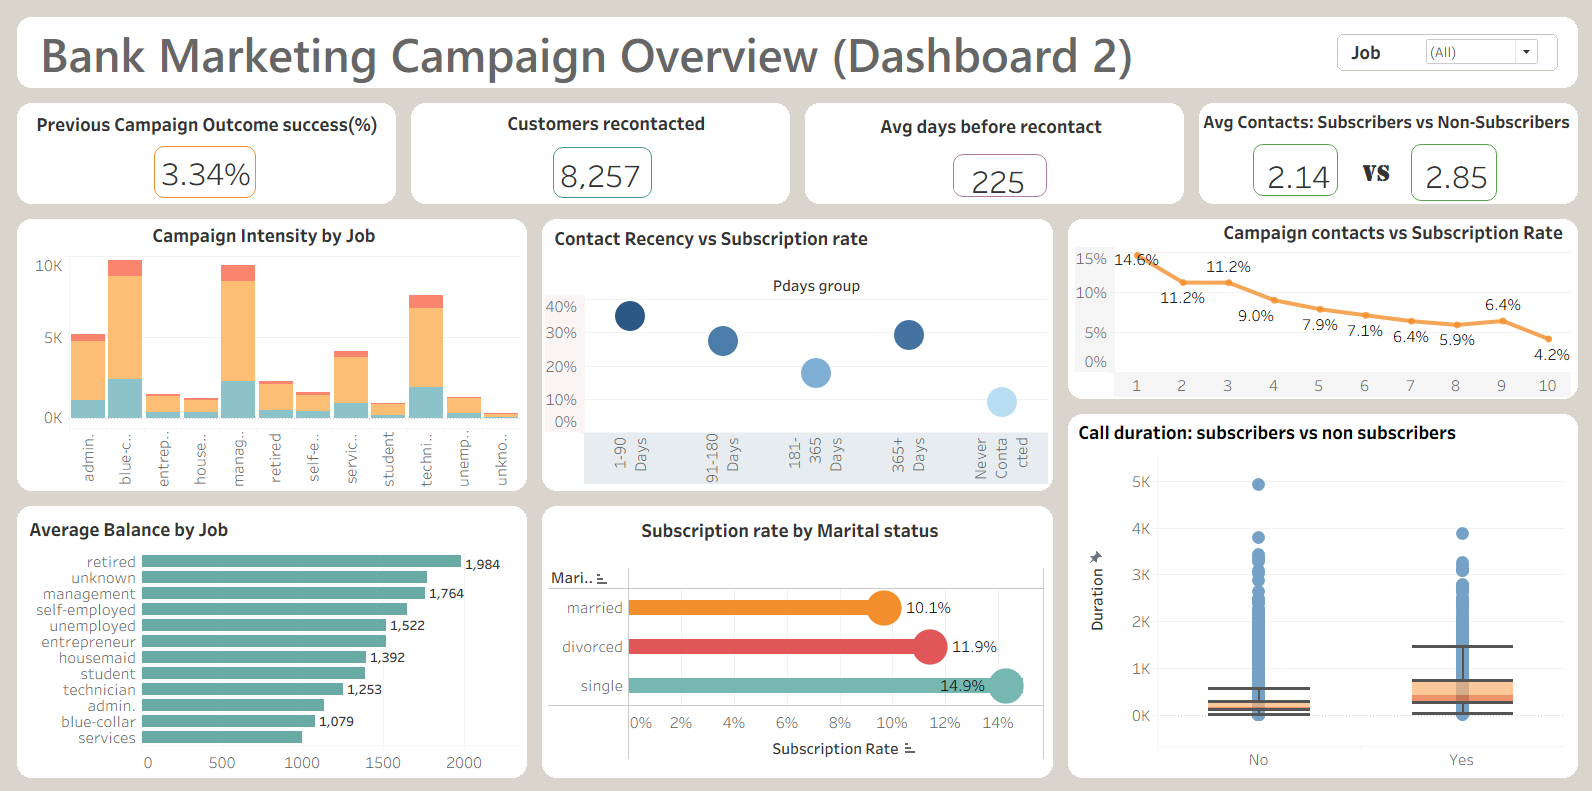

The dashboard page shown, as its layout file describes it:
{"tool":"tableau","page":{"name":"Dashboard 2","canvas":[1600,800],"ordinal":1},"visuals":[{"type":"image","param":"C:/Users/LENOVO/Downloads/dashboard2_bg_1600x800_v2.png","box":[0,0,1600,800]},{"type":"text","box":[26,24,1128,63]},{"type":"filter","title":"Campaign Intensity by Job","param":"[federated.10ulu2d0axs8fh14mv0v413qdz5e].[none:V2:nk]","box":[1354,42,190,25]},{"type":"text","box":[1186,99,407,50]},{"type":"text","box":[36,110,348,33]},{"type":"text","box":[507,111,205,30]},{"type":"text","box":[880,114,229,30]},{"type":"worksheet","title":"KPI-Avg Contacts: Subscribers","mark":"Automatic","box":[1256,147,85,52]},{"type":"worksheet","title":"KPI-Avg Contacts: Non-Subscribers ","mark":"Automatic","box":[1414,147,86,57]},{"type":"worksheet","title":"KPI-Previous Campaign Outcome success(%)","mark":"Automatic","box":[157,149,102,52]},{"type":"worksheet","title":"KPI-Customers recontacted","mark":"Automatic","box":[556,150,99,51]},{"type":"worksheet","title":"KPI-Avg days before recontact","mark":"Automatic","box":[956,157,94,43]},{"type":"text","box":[1362,162,50,30]},{"type":"text","box":[1223,215,362,39]},{"type":"text","box":[554,218,363,46]},{"type":"text","box":[152,223,230,30]},{"type":"worksheet","title":"Campaign contacts vs Subscription Rate","mark":"Line","rows":["Calculation_1324386255863811"],"cols":["Calculation_1392009566494721"],"box":[1078,235,496,165]},{"type":"worksheet","title":"Campaign Intensity by Job","mark":"Automatic","rows":["V1"],"cols":["V2"],"box":[28,242,495,249]},{"type":"worksheet","title":"Contact Recency vs Subscription rate","mark":"Circle","rows":["Calculation_1324386255863811"],"cols":["Calculation_0161655695294465"],"box":[548,263,503,225]},{"type":"text","box":[1078,415,406,39]},{"type":"worksheet","title":"Call duration: subscribers vs not","mark":"Circle","rows":["V12"],"cols":["Calculation_1392009561391104"],"box":[1082,444,485,330]},{"type":"text","box":[29,517,206,30]},{"type":"text","box":[641,518,313,30]},{"type":"worksheet","title":"Average Balance by Job","mark":"Automatic","rows":["V2"],"cols":["V6"],"box":[24,541,500,249]},{"type":"worksheet","title":"Subscription rate by Marital status","mark":"Bar","rows":["V3"],"cols":["Calculation_1324386255863811","Calculation_1324386255863811"],"box":[551,556,496,216]}]}

Visuals, with their boxes in screenshot pixels (x1, y1, x2, y2), scaled from the page's 1600x800 canvas onto the 1592x791 screenshot:
image: box(0, 0, 1591, 790)
text: box(26, 24, 1148, 86)
"Campaign Intensity by Job" filter: box(1347, 42, 1536, 66)
text: box(1180, 98, 1585, 147)
text: box(36, 109, 382, 141)
text: box(504, 110, 708, 139)
text: box(876, 113, 1103, 142)
"KPI-Avg Contacts: Subscribers" worksheet: box(1250, 145, 1334, 197)
"KPI-Avg Contacts: Non-Subscribers " worksheet: box(1407, 145, 1492, 202)
"KPI-Previous Campaign Outcome success(%)" worksheet: box(156, 147, 258, 199)
"KPI-Customers recontacted" worksheet: box(553, 148, 652, 199)
"KPI-Avg days before recontact" worksheet: box(951, 155, 1045, 198)
text: box(1355, 160, 1405, 190)
text: box(1217, 213, 1577, 251)
text: box(551, 216, 912, 261)
text: box(151, 220, 380, 250)
"Campaign contacts vs Subscription Rate" worksheet (Line marks): box(1073, 232, 1566, 396)
"Campaign Intensity by Job" worksheet: box(28, 239, 520, 485)
"Contact Recency vs Subscription rate" worksheet (Circle marks): box(545, 260, 1046, 483)
text: box(1073, 410, 1477, 449)
"Call duration: subscribers vs not" worksheet (Circle marks): box(1077, 439, 1559, 765)
text: box(29, 511, 234, 541)
text: box(638, 512, 949, 542)
"Average Balance by Job" worksheet: box(24, 535, 521, 781)
"Subscription rate by Marital status" worksheet (Bar marks): box(548, 550, 1042, 763)
